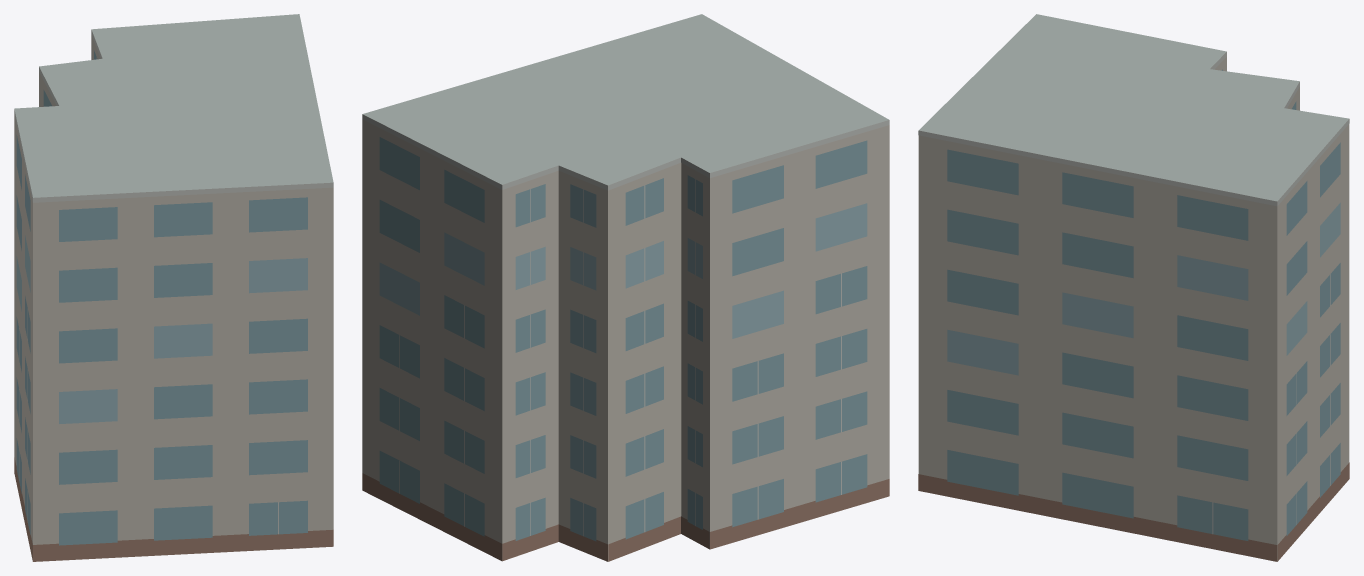
File: survey-upis-32871647.glb
The picture shows the model from 3 angles, left to right: view 1: azimuth 30°, elevation 25°; view 2: azimuth 150°, elevation 25°; view 3: azimuth 270°, elevation 25°; orthographic projection. The views are drawn at different scales.
Visible parts, largest first — view 1: survey-upis-32871647.tmp; view 2: survey-upis-32871647.tmp; view 3: survey-upis-32871647.tmp.
Boxes of the visible parts, x1,y1,x2,y2 form: survey-upis-32871647.tmp: (14,14,333,561); survey-upis-32871647.tmp: (362,14,889,561); survey-upis-32871647.tmp: (918,14,1349,561).
Size of the model in its own units: 20.1 by 18 by 19.52.
